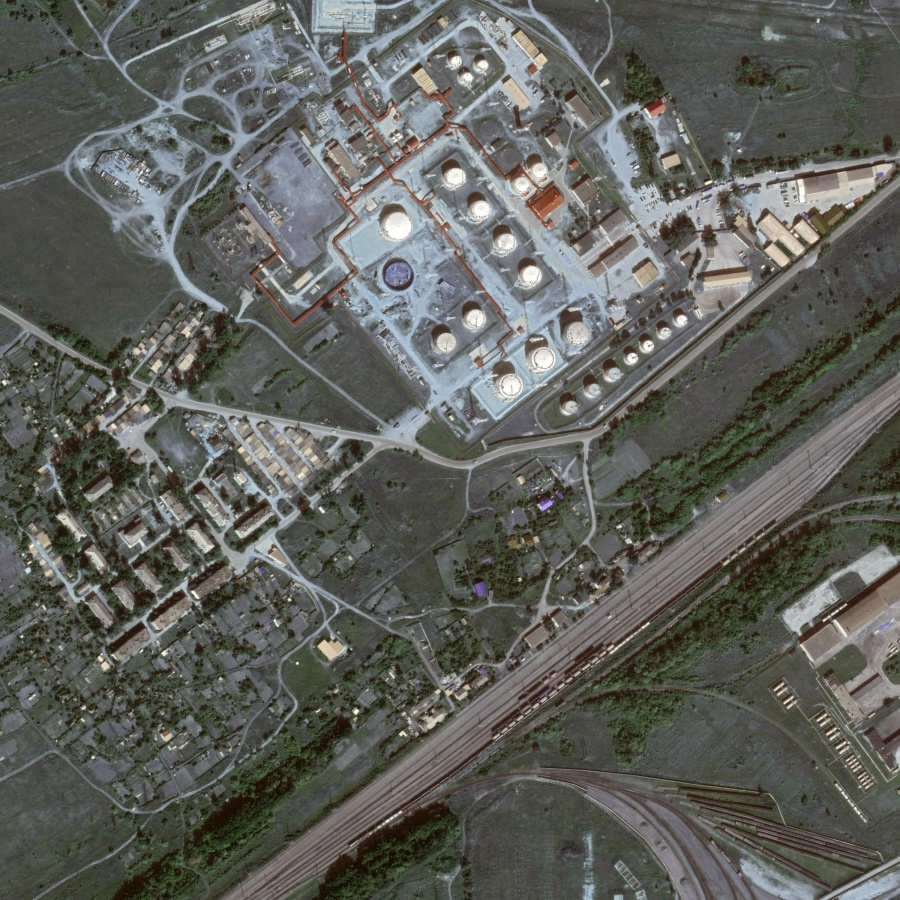PowerPlant: (381, 126, 694, 417)
